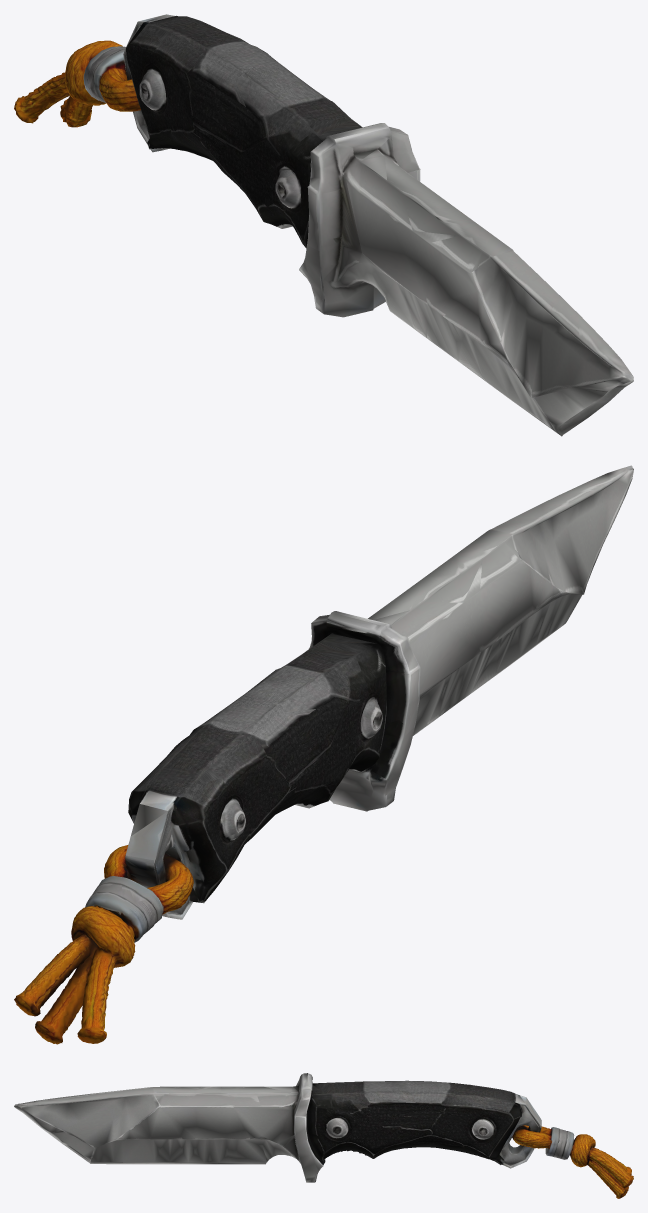
File: wpn_kn_tanto.glb
The picture shows the model from 3 angles, top to bottom: view 1: azimuth 30°, elevation 25°; view 2: azimuth 150°, elevation 25°; view 3: azimuth 270°, elevation 25°; orthographic projection. The views are drawn at different scales.
Parts seen in each view (by area): view 1: body; view 2: body; view 3: body.
Part boxes in pixels (box(x1,y1,x2,y2)): body: box(14, 14, 633, 436); body: box(14, 465, 633, 1044); body: box(14, 1073, 633, 1198).
Bounding box in the file's own units: 0.0344 × 0.0685 × 0.3363.
Materials: 1 (1 with a texture image).
